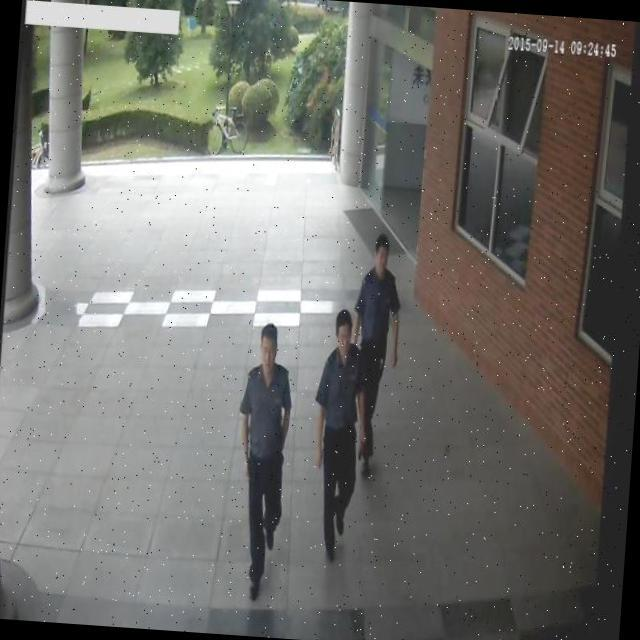person: (224, 320, 298, 606), (305, 308, 370, 566), (346, 231, 410, 484)
